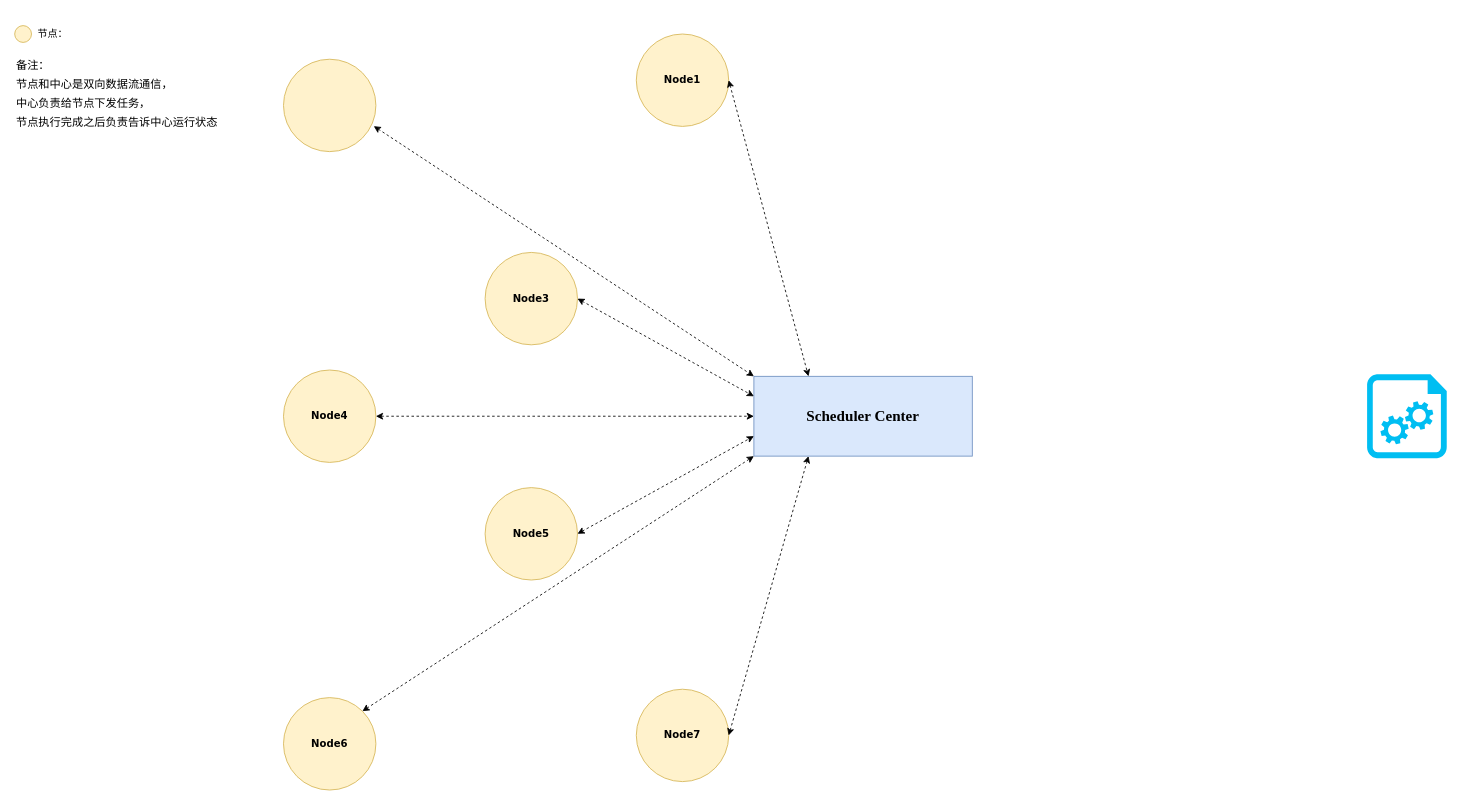
This 1462x805 diagram has some shape labels left out. The shapes that lost their labels are listed below. From the top down, each one's centre as x and y in pixels, then its label:
the point at 329,105: Node2
the point at 1406,416: Task驱动 Center
